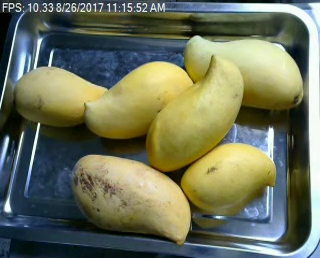Mango: (143, 53, 245, 171), (70, 153, 191, 241), (184, 36, 304, 110), (84, 60, 194, 138), (179, 142, 277, 211), (14, 65, 110, 124)
